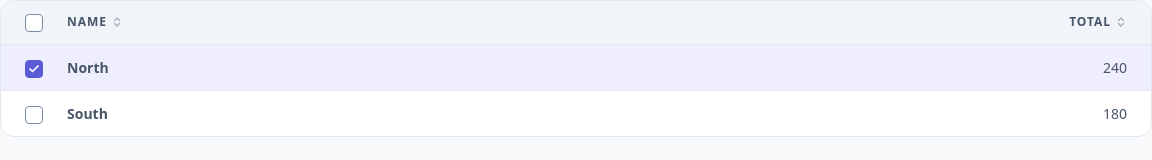
Test: DataTable › cycles sort state and updates uncontrolled row selection
Click the button "Total": (1098, 22) [1069,13,1127,31]
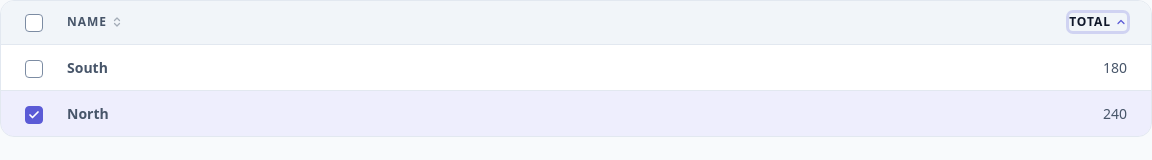
Check: the row "South 180" is shown, box [1,44,1151,90]
Check: the column heading "Total" has attribute aria-sort="ascending", box [572,1,1151,44]
Click the button "Total": (1098, 22) [1069,13,1127,31]
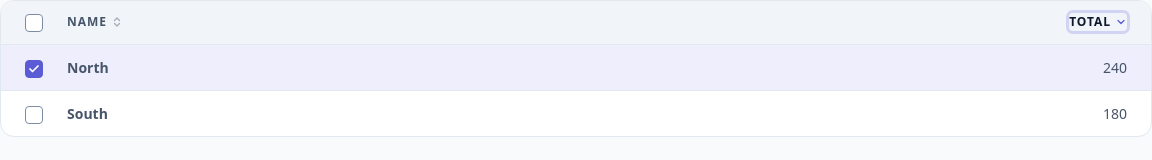
Check: the row "North 240" is shown, box [1,44,1151,90]
Click the button "Total": (1098, 22) [1069,13,1127,31]
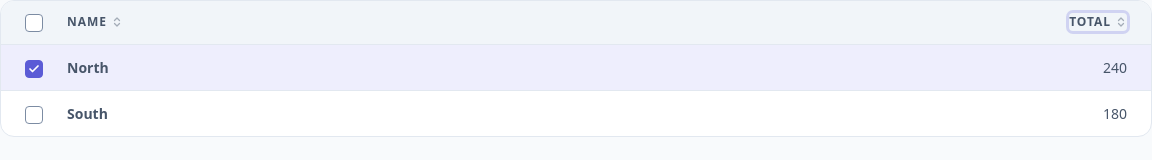
Check: the column heading "Total" does not have attribute aria-sort, box [572,1,1151,44]
Click the checkbox named "Select all": (34, 23) [25,14,43,32]
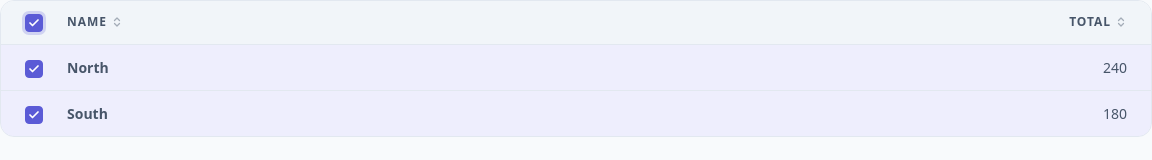
Check: the number of rows with class "lyra-table__row--selected" is 2, box [1,44,1151,90]; [1,90,1151,136]
